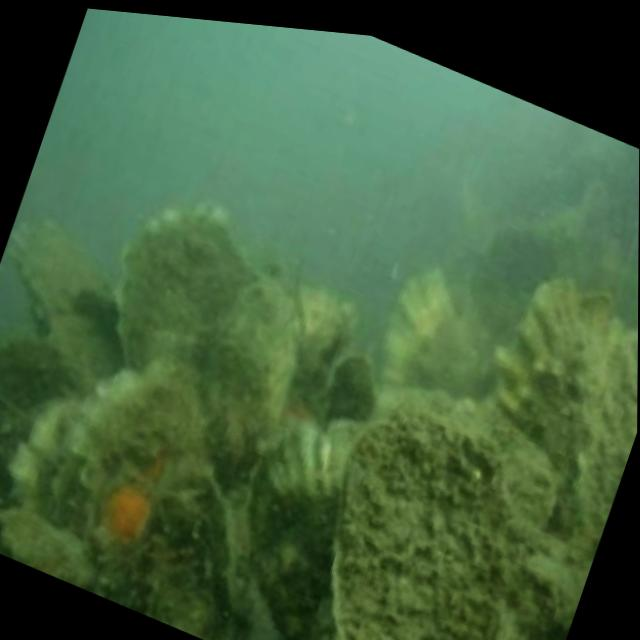Oyster-Closed: (327, 384, 508, 640)
Oyster-Indeterminate: (4, 374, 226, 638), (111, 192, 286, 441), (471, 270, 618, 458), (5, 211, 113, 339), (376, 265, 455, 384)
